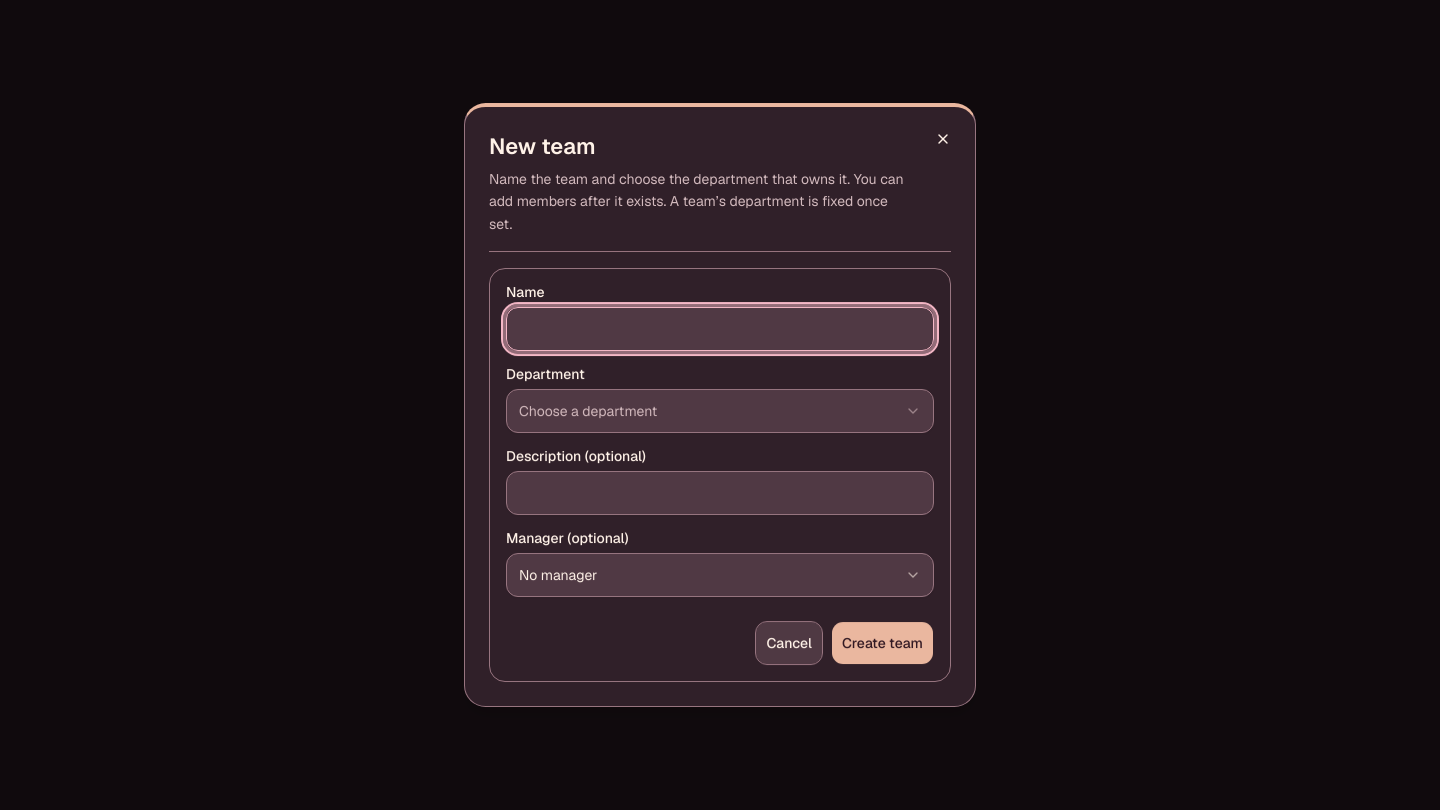
Scenario: CreateTeamDialog › surfaces the permission_denied state
In the field labelled "Name": x=720, y=329 [506, 307, 934, 351], type "Ops Team"
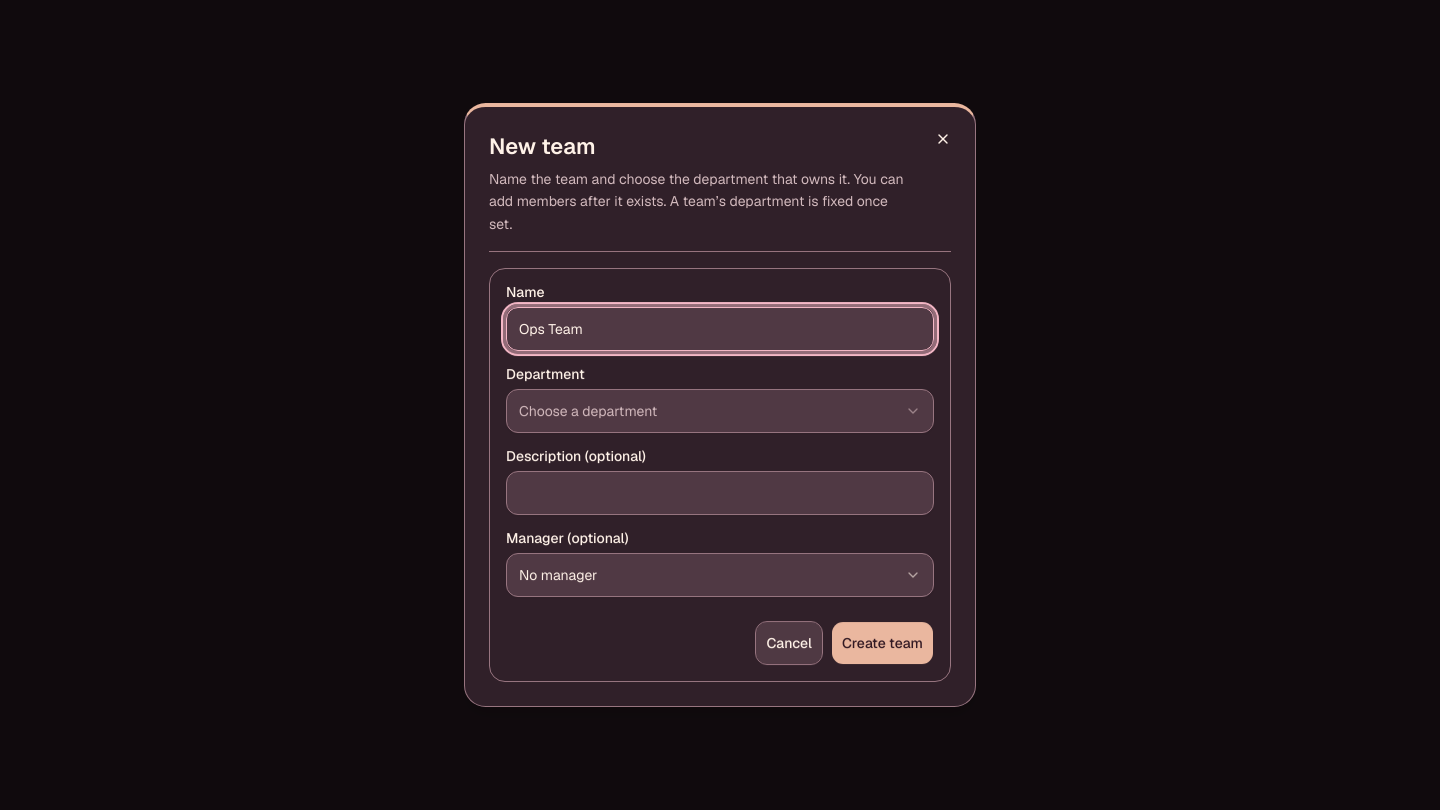
Click the dropdown labelled "department": x=588, y=411 [506, 389, 934, 433]
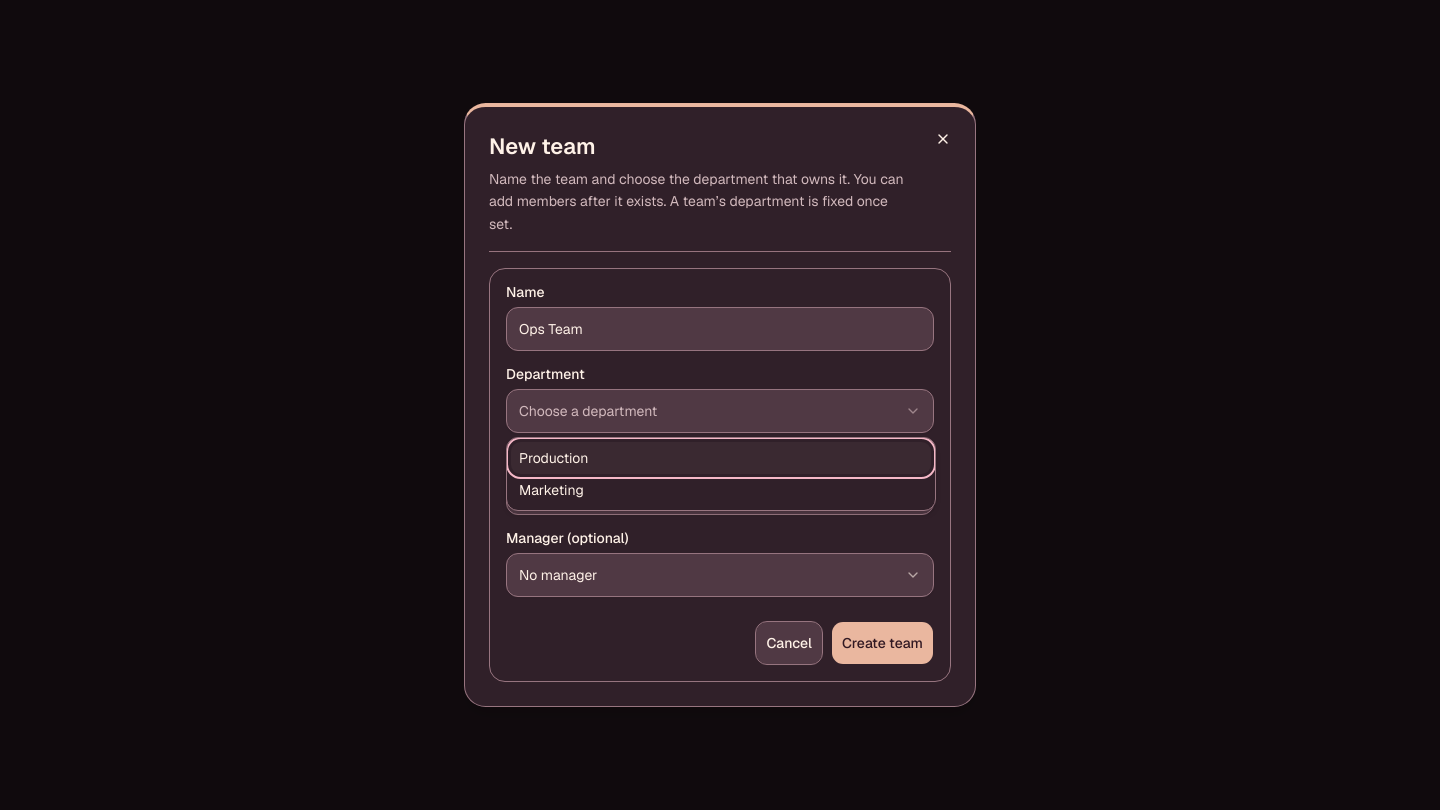
Click the option "Production": x=554, y=458 [511, 442, 931, 474]
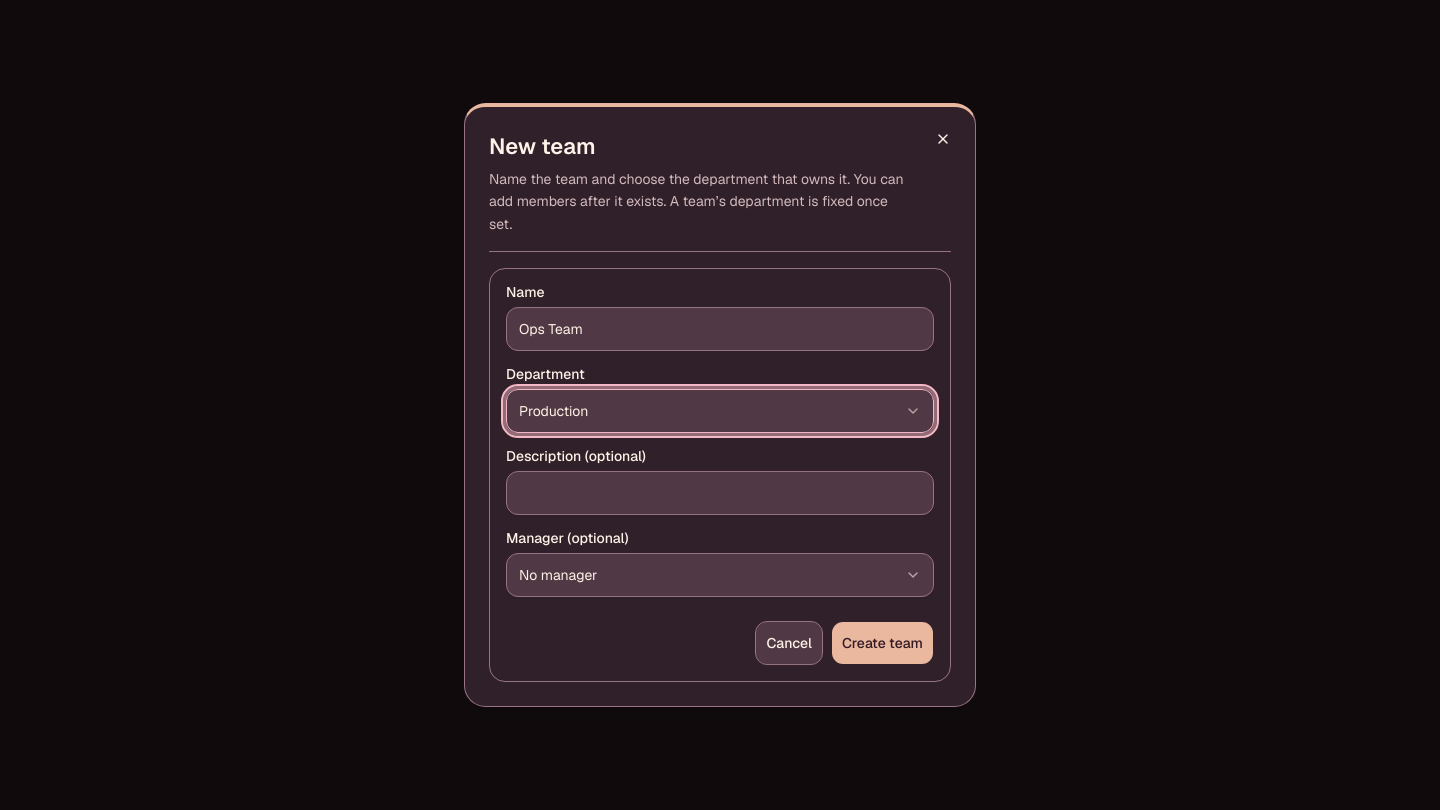
Click the button "Create team": x=882, y=643 [831, 621, 934, 665]
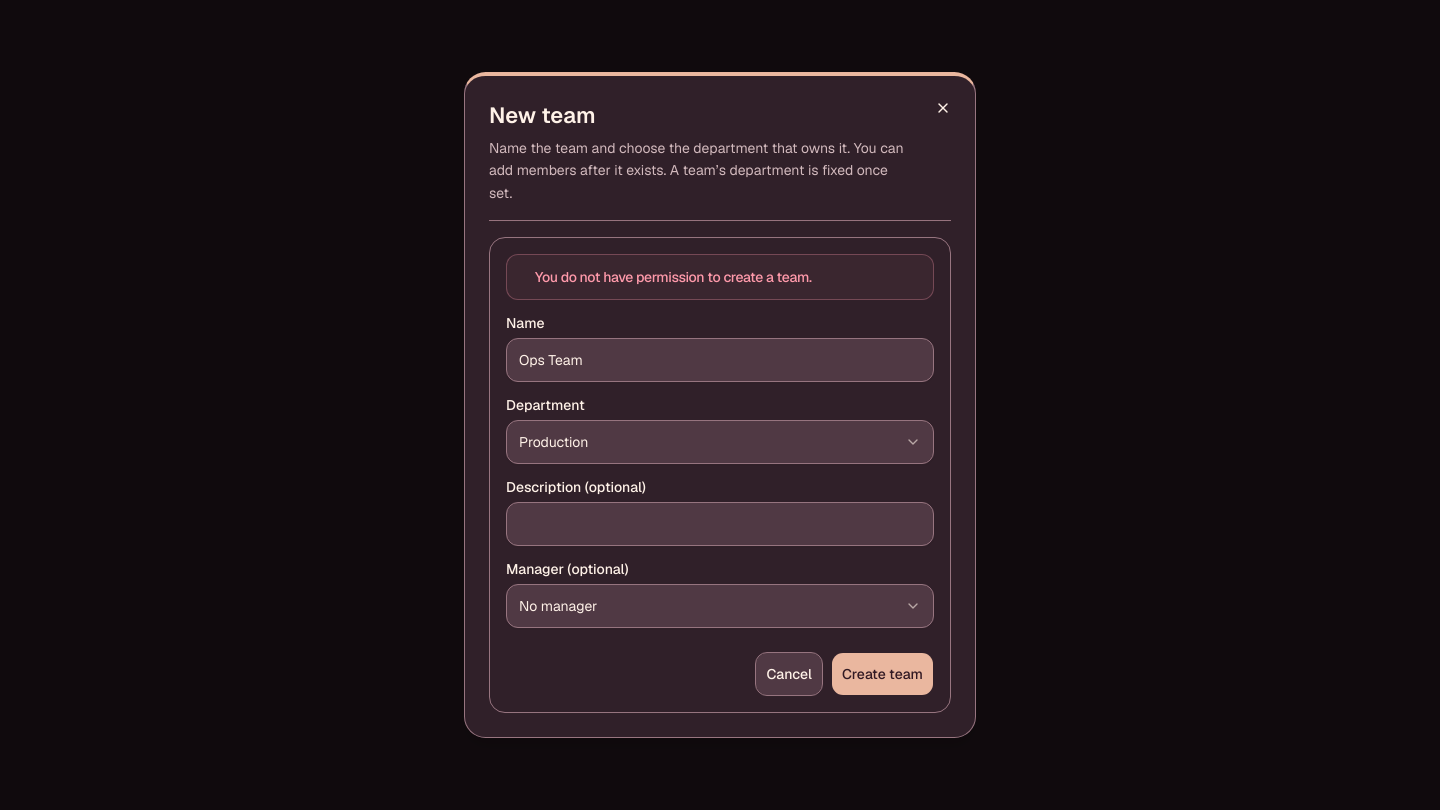
Expected: the text "You do not have permission to create a team." is shown, [535, 268, 812, 286]
